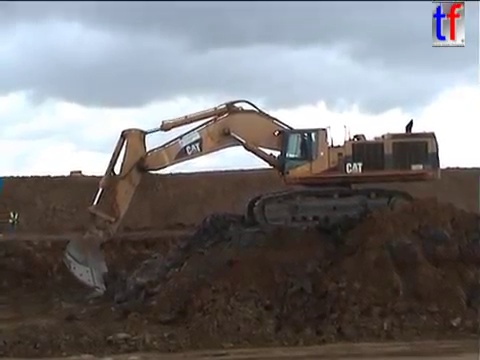excavator: (59, 96, 443, 297)
truck: (68, 169, 83, 184)
worker: (6, 207, 20, 235)
